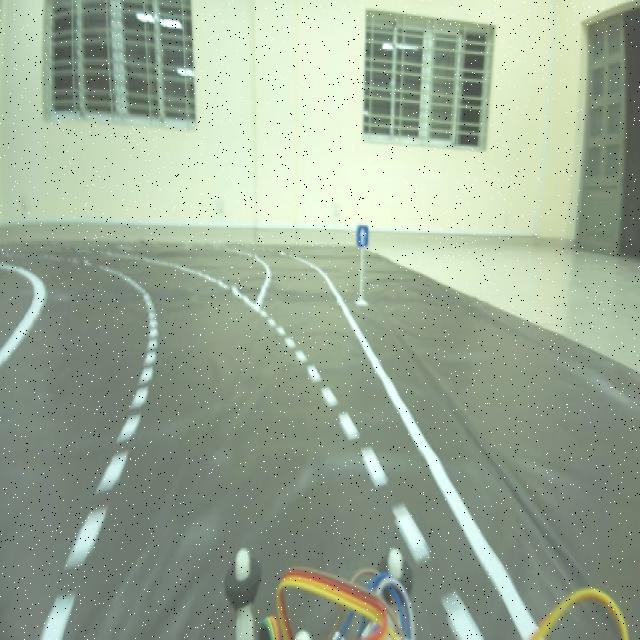onewayroad: (356, 222, 370, 246)
